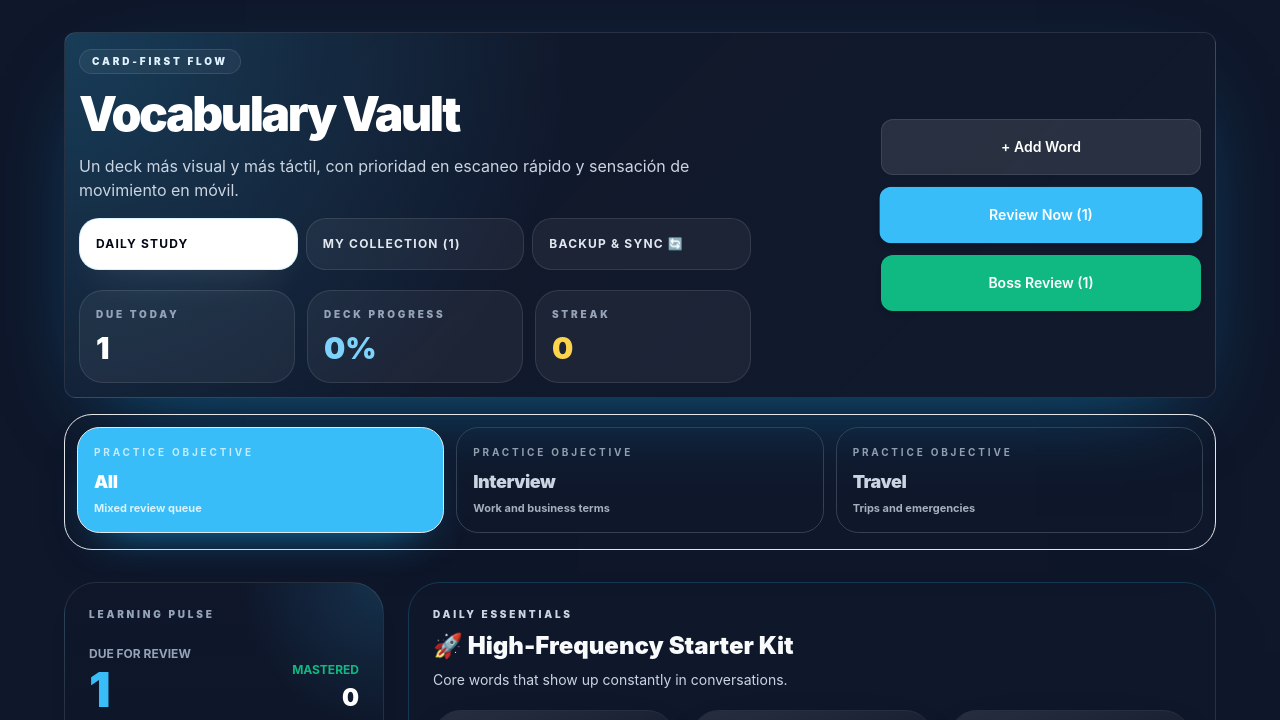
Test: VocabularyVaultView flows › crear sesiÃ³n: starts a review session for due items
Click the button "Review Now (1)" at point(1041, 215), box [879,187,1203,243]
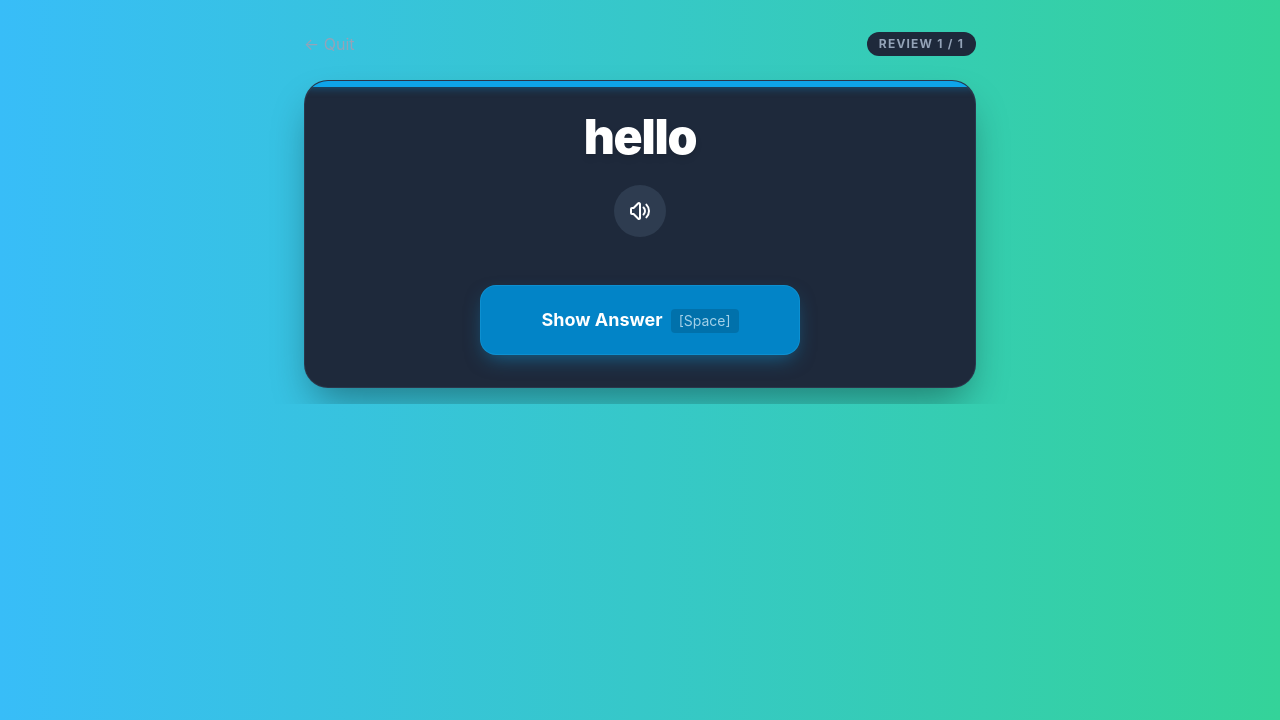
Expected: the text "Review 1 / 1" is shown, [867,32,976,56]
Expected: the heading "hello" is shown, [584,113,696,161]
